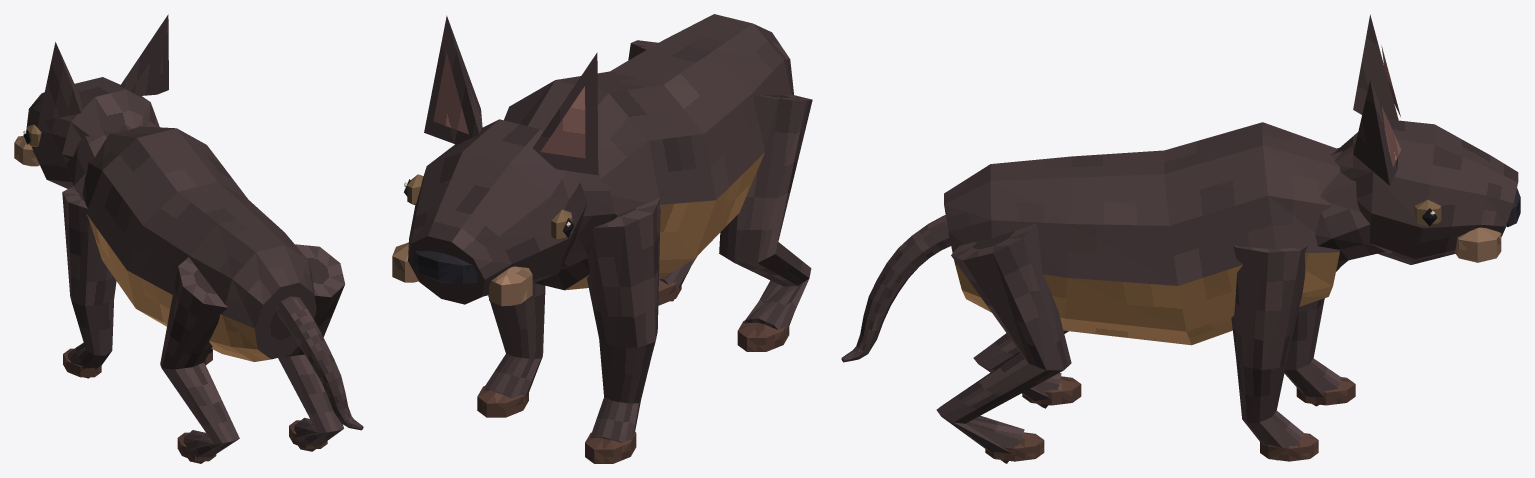
Rendered from mon_dog_gshepherd_pup.glb.
3 renders of one model, left to right at view 1: azimuth 30°, elevation 25°; view 2: azimuth 150°, elevation 25°; view 3: azimuth 270°, elevation 25°, orthographic. The views are drawn at different scales.
Visible parts, largest first — view 1: closed_body; view 2: closed_body; view 3: closed_body.
Boxes of the visible parts, box(x1,y1,x2,y2) form: closed_body: box(14, 14, 363, 463); closed_body: box(392, 14, 812, 463); closed_body: box(841, 14, 1520, 463).
Size of the model in its own units: 0.1028 by 0.2242 by 0.3555.
1 material, 1 textured.
